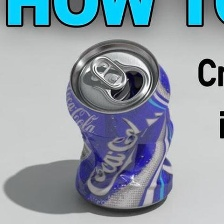can: (61, 36, 184, 218)
